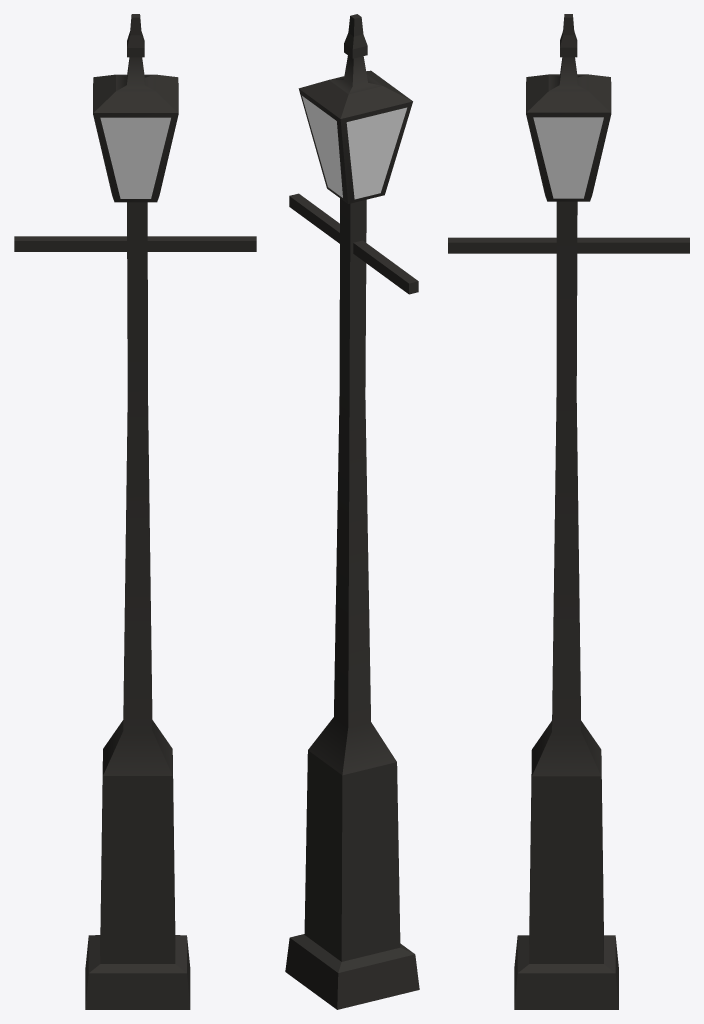
File: env_victorian_lamp.fbx
3 views of the same model, side by side, from view 1: azimuth 90°, elevation 25°; view 2: azimuth 210°, elevation 25°; view 3: azimuth 270°, elevation 25° (orthographic).
Visible parts, largest first — view 1: victorian_lamp, polySurface8, polySurface9, bar; view 2: victorian_lamp, polySurface8, polySurface9, bar; view 3: victorian_lamp, polySurface8, polySurface9, bar.
Boxes of the visible parts, x1=… form: victorian_lamp: x1=85, y1=202, x2=190, y2=1009; polySurface8: x1=93, y1=14, x2=178, y2=202; polySurface9: x1=100, y1=117, x2=170, y2=198; bar: x1=14, y1=236, x2=256, y2=251; victorian_lamp: x1=285, y1=198, x2=419, y2=1009; polySurface8: x1=298, y1=14, x2=412, y2=203; polySurface9: x1=302, y1=96, x2=407, y2=199; bar: x1=289, y1=193, x2=418, y2=294; victorian_lamp: x1=514, y1=201, x2=618, y2=1009; polySurface8: x1=526, y1=14, x2=611, y2=201; polySurface9: x1=533, y1=117, x2=603, y2=198; bar: x1=448, y1=237, x2=689, y2=253.
Size of the model in its own units: 39.72 by 444 by 100.
Materials: 1 (1 with a texture image).
